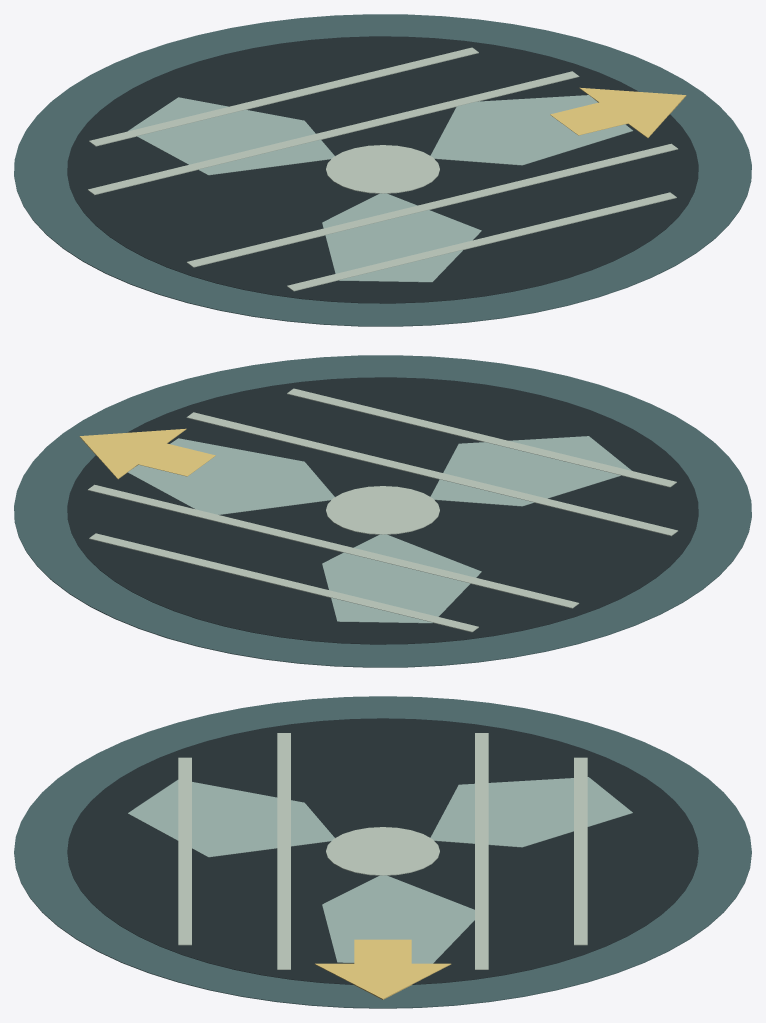
The model's file is fan.glb.
3 renders of one model, top to bottom at view 1: azimuth 30°, elevation 25°; view 2: azimuth 150°, elevation 25°; view 3: azimuth 270°, elevation 25°, orthographic.
Parts seen in each view (by area): view 1: RotorWell, VentHousing, RotorBlade0, RotorBlade1, RotorBlade2, RotorHub, ForwardChevron, Grille.001, Grille.002, Grille.003, Grille; view 2: RotorWell, VentHousing, RotorBlade0, RotorBlade2, RotorBlade1, RotorHub, ForwardChevron, Grille.001, Grille.002, Grille.003, Grille; view 3: RotorWell, VentHousing, RotorBlade0, RotorBlade1, RotorBlade2, RotorHub, ForwardChevron, Grille.001, Grille.002, Grille, Grille.003.
Boxes of the visible parts, left/top/right/bottom form: RotorWell: left=67, top=36, right=698, bottom=303; VentHousing: left=14, top=14, right=751, bottom=326; RotorBlade0: left=430, top=95, right=632, bottom=165; RotorBlade1: left=128, top=97, right=334, bottom=175; RotorBlade2: left=322, top=193, right=481, bottom=282; RotorHub: left=326, top=145, right=439, bottom=193; ForwardChevron: left=550, top=87, right=686, bottom=138; Grille.001: left=186, top=143, right=677, bottom=267; Grille.002: left=88, top=71, right=579, bottom=195; Grille.003: left=89, top=47, right=478, bottom=146; Grille: left=287, top=192, right=676, bottom=291; RotorWell: left=67, top=377, right=698, bottom=644; VentHousing: left=14, top=355, right=751, bottom=667; RotorBlade0: left=127, top=438, right=334, bottom=514; RotorBlade2: left=430, top=436, right=631, bottom=506; RotorBlade1: left=322, top=534, right=481, bottom=623; RotorHub: left=326, top=486, right=439, bottom=534; ForwardChevron: left=79, top=428, right=215, bottom=479; Grille.001: left=186, top=412, right=677, bottom=536; Grille.002: left=88, top=484, right=579, bottom=608; Grille.003: left=89, top=533, right=478, bottom=632; Grille: left=287, top=388, right=676, bottom=487; RotorWell: left=67, top=718, right=698, bottom=984; VentHousing: left=14, top=696, right=751, bottom=1008; RotorBlade0: left=322, top=875, right=474, bottom=963; RotorBlade1: left=430, top=777, right=632, bottom=847; RotorBlade2: left=128, top=780, right=334, bottom=857; RotorHub: left=326, top=827, right=439, bottom=875; ForwardChevron: left=314, top=939, right=451, bottom=999; Grille.001: left=277, top=733, right=290, bottom=969; Grille.002: left=475, top=733, right=488, bottom=969; Grille: left=178, top=757, right=191, bottom=945; Grille.003: left=574, top=757, right=587, bottom=945.
Size of the model in its own units: 1.94 by 0.005 by 1.94.
